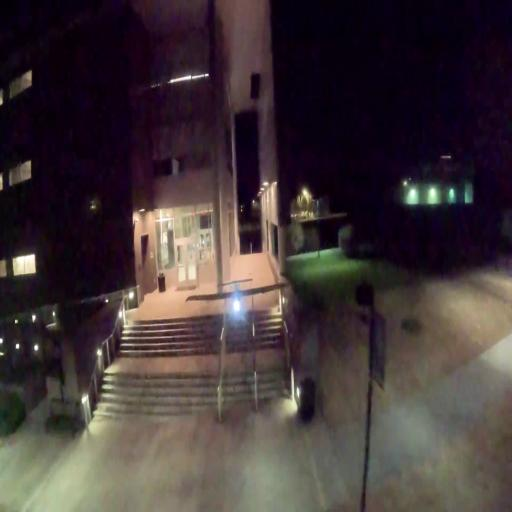uav: (184, 278, 294, 323)
